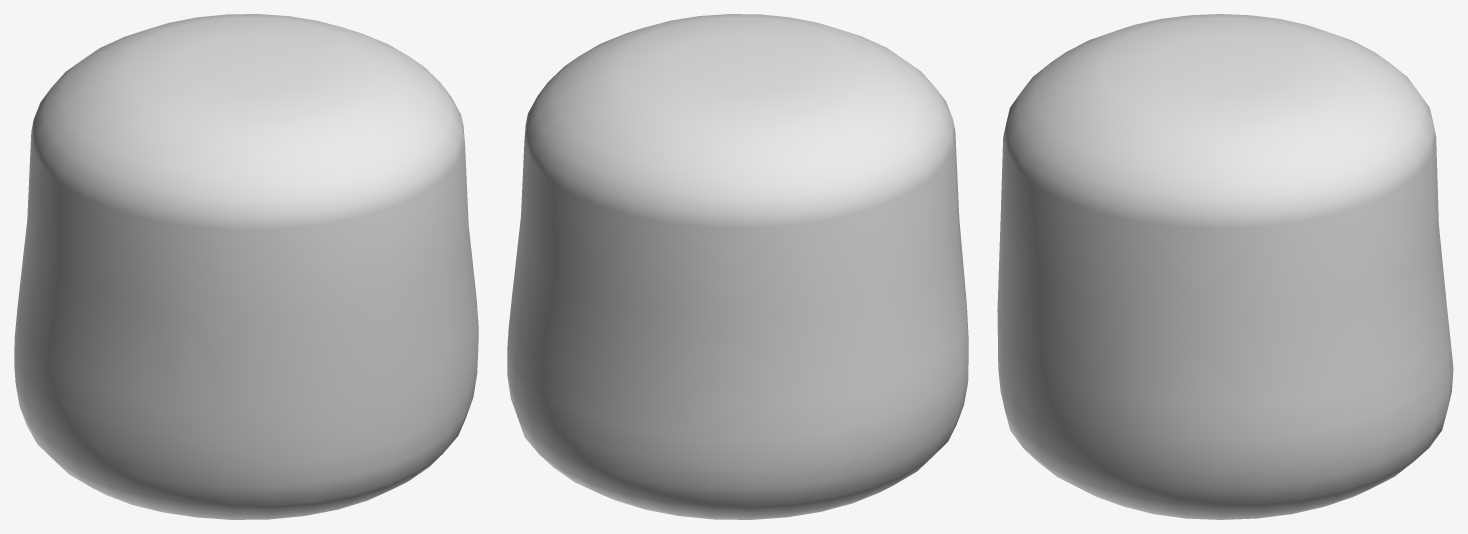
File: 31-Cute-Dizziness-Overwhelmed-face-face.glb
The picture shows the model from 3 angles, left to right: view 1: azimuth 30°, elevation 25°; view 2: azimuth 150°, elevation 25°; view 3: azimuth 270°, elevation 25°; orthographic projection.
Visible parts, largest first — view 1: 31-Cute-Dizziness-Overwhelmed-face-face; view 2: 31-Cute-Dizziness-Overwhelmed-face-face; view 3: 31-Cute-Dizziness-Overwhelmed-face-face.
Boxes of the visible parts, left/top/right/bottom form: 31-Cute-Dizziness-Overwhelmed-face-face: left=14, top=14, right=478, bottom=519; 31-Cute-Dizziness-Overwhelmed-face-face: left=507, top=14, right=968, bottom=519; 31-Cute-Dizziness-Overwhelmed-face-face: left=997, top=14, right=1453, bottom=519.
Bounding box in the file's own units: 1.23 × 1.18 × 1.2.
1 material, 1 textured.
